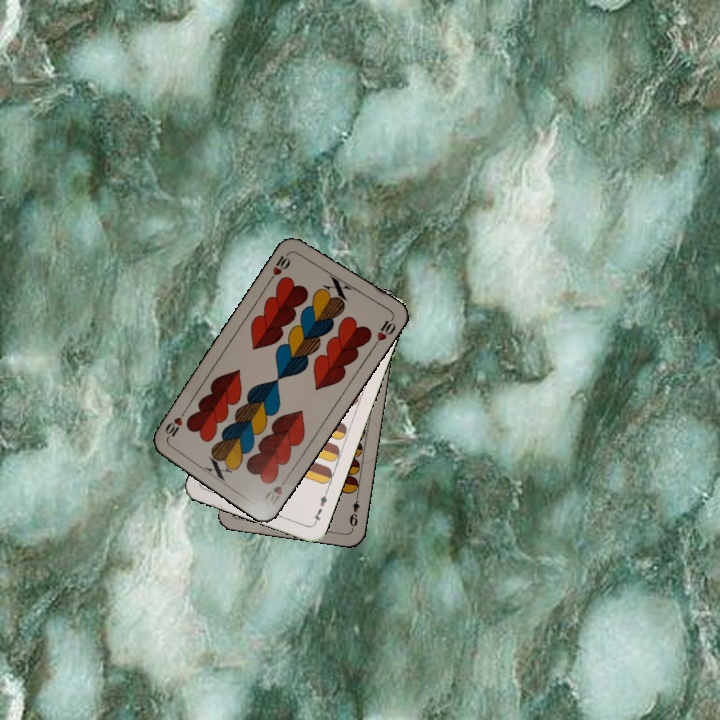E7: (309, 488, 330, 527)
E9: (345, 491, 362, 531)
H10: (260, 472, 291, 511), (266, 247, 294, 283)
